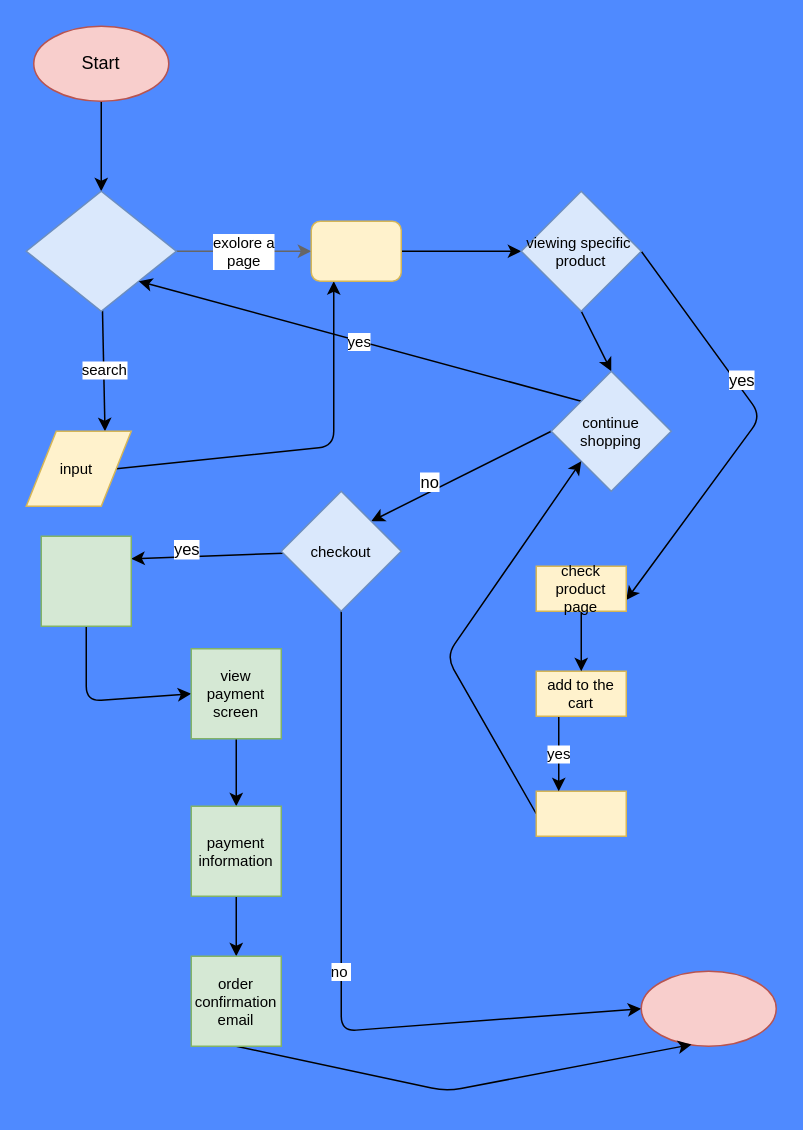
The diagram is 803 pixels wide and 1130 high, and some of its shapes have lost their labels. The centre of each missing label's shape, as x and y in pixels:
comfirm added items: point 580,813
end: point 708,1008
look over the products: point 355,250
search or explore a product: point 100,250
view cart screen: point 85,580
